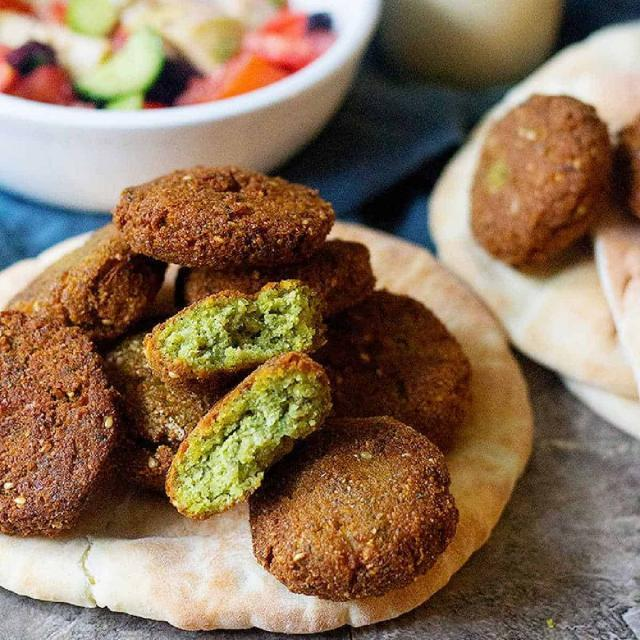flafel: (248, 414, 452, 598), (0, 304, 115, 540), (474, 91, 611, 272), (151, 281, 329, 367)
